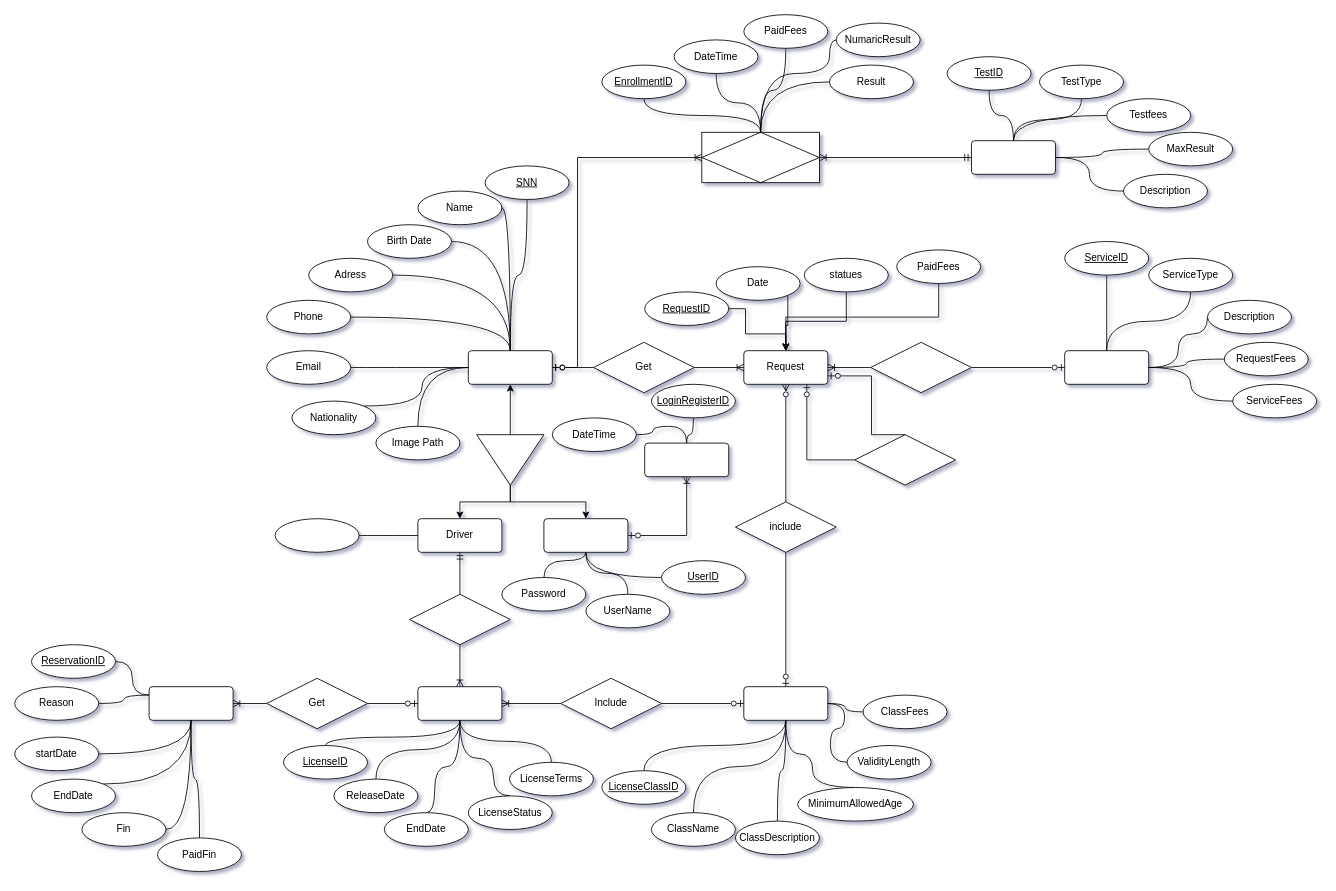
Some shapes in this 1336 by 891 pixel diagram are drawn without their labels. Here are the shapes that lost their labels. From the top down, the centre of each, then its label:
(760,157): Enrolle
(1013,157): Tests
(509,367): Person
(920,367): Contains
(1106,367): Service
(510,459): Is a
(686,459): LoginRegister
(905,459): Belong
(316,535): DriverID
(585,535): User
(459,619): Hav
(190,703): Reservation
(459,703): License
(785,703): LicenseClass
